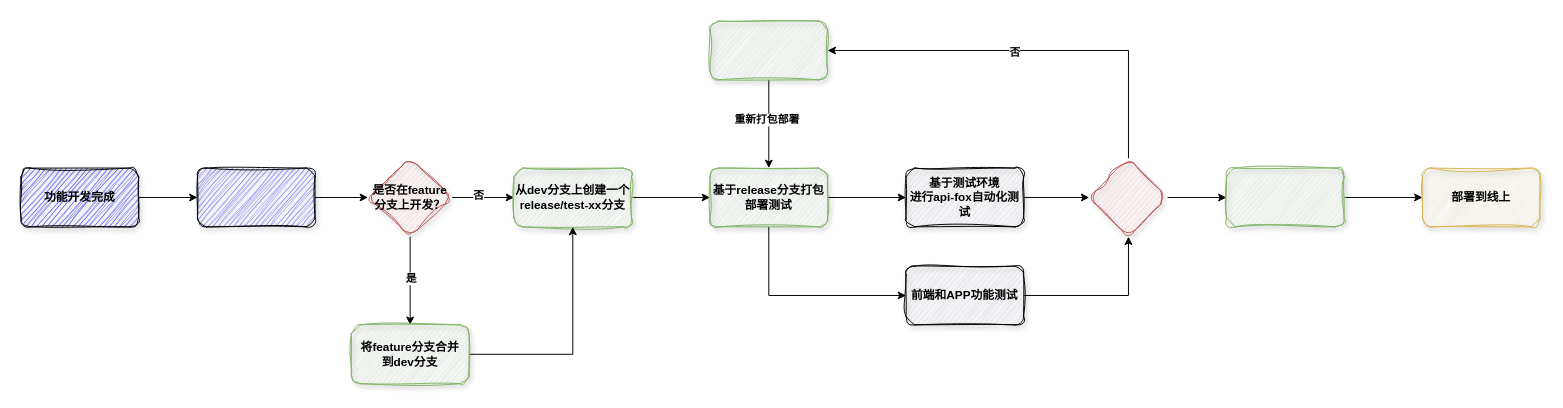
Image size: 1563x408. Some labels were removed from this diagram. The centre of each missing label's shape, as x and y in pixels:
合并分支到master，dev: point (1286, 198)
在release分支上 修复bug: point (769, 51)
开发人员各自 完成自测: point (257, 198)
测试通过？: point (1129, 198)
